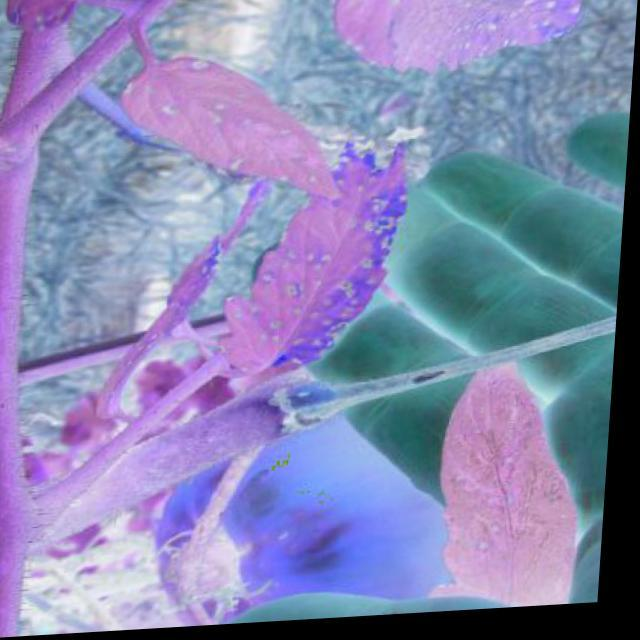Tomato Septoria spot leaf: (233, 140, 419, 397), (114, 53, 350, 213), (270, 0, 596, 84)
